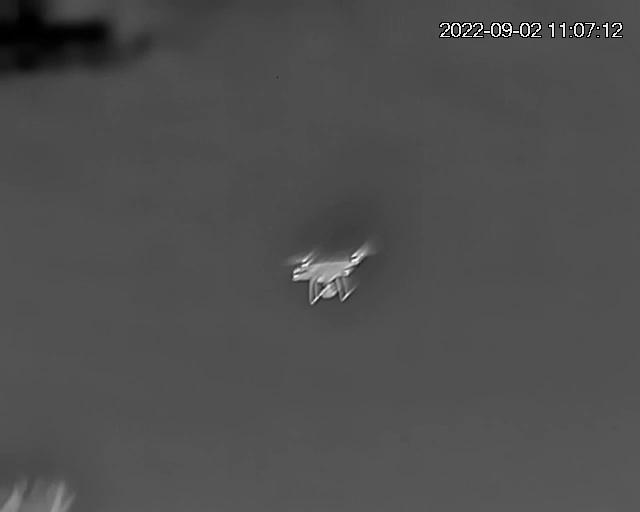DJI-Phantom: (288, 246, 371, 303)
